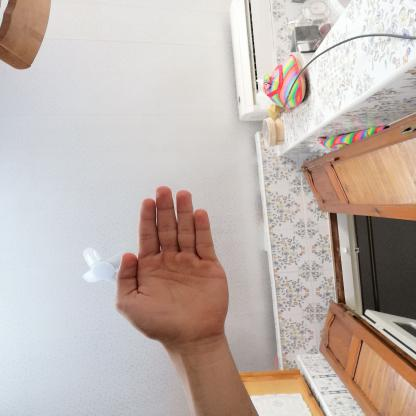SEEN: (104, 179, 237, 352)
